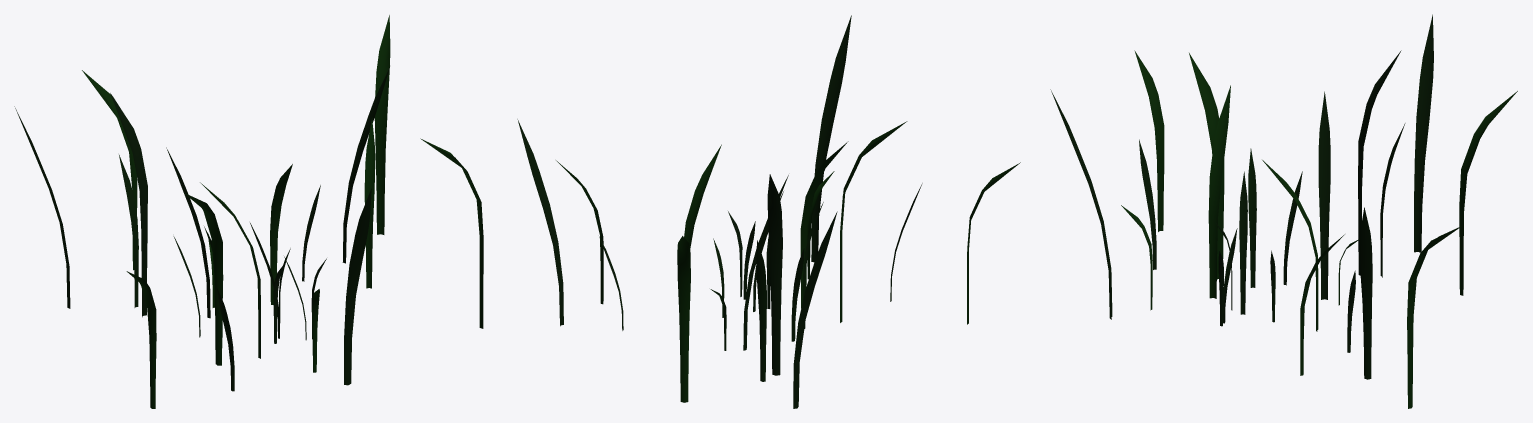
Rendered from Gras5.fbx.
3 views of the same model, side by side, from view 1: azimuth 30°, elevation 25°; view 2: azimuth 150°, elevation 25°; view 3: azimuth 270°, elevation 25° (orthographic). The views are drawn at different scales.
Visible parts, largest first — view 1: MASH_ReproMesh3; view 2: MASH_ReproMesh3; view 3: MASH_ReproMesh3.
Part boxes in pixels (box(x1,y1,x2,y2)): MASH_ReproMesh3: box(14, 15, 390, 408); MASH_ReproMesh3: box(420, 15, 1020, 408); MASH_ReproMesh3: box(1050, 14, 1517, 408).
Size of the model in its own units: 2.58 by 1.28 by 2.4.
